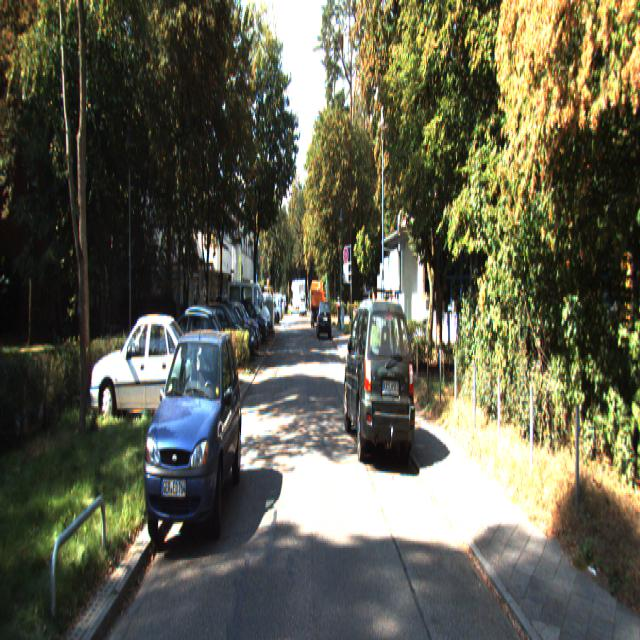Car: (142, 328, 244, 554), (90, 306, 203, 428), (343, 291, 417, 474), (226, 281, 272, 340), (310, 280, 326, 329), (316, 301, 332, 341)
